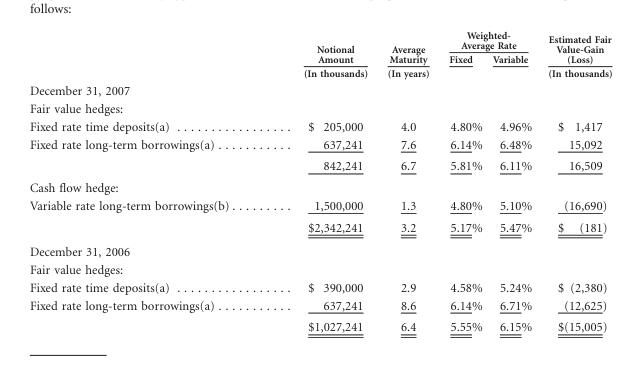table: (28, 29, 611, 333)
table column: (28, 29, 268, 333), (268, 29, 376, 333), (539, 29, 611, 333), (376, 29, 438, 333), (486, 29, 539, 333), (438, 29, 486, 333)
table column header: (28, 29, 611, 81)
table projected row header: (28, 239, 611, 260), (28, 176, 611, 196), (28, 81, 611, 99), (28, 99, 611, 117), (28, 260, 611, 278)
table row: (28, 52, 611, 81), (28, 29, 611, 52), (28, 216, 611, 239), (28, 154, 611, 176), (28, 239, 611, 260), (28, 176, 611, 196), (28, 196, 611, 216), (28, 135, 611, 154), (28, 296, 611, 315), (28, 81, 611, 99), (28, 99, 611, 117), (28, 117, 611, 135), (28, 260, 611, 278), (28, 278, 611, 296), (28, 315, 611, 333)
table spanning cell: (268, 29, 376, 81), (539, 29, 611, 81), (376, 29, 438, 81), (438, 29, 539, 52)
